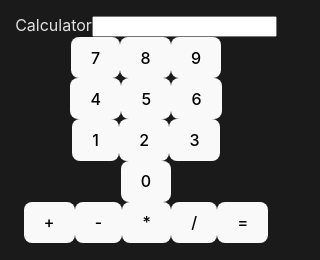
Calculator › should fill input after clicking several numbers
Click the button "1" at (96, 140), box [72,119,119,161]
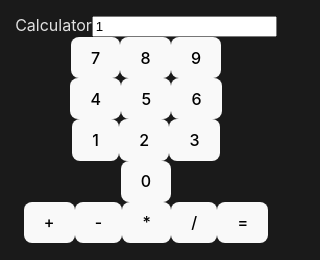
Click the button "2" at (144, 140), box [119,119,169,161]
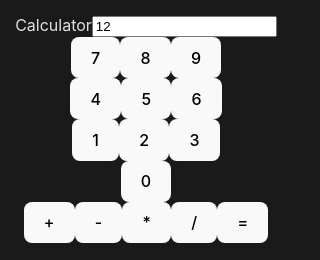
Click the button "3" at (195, 140), box [169,119,220,161]
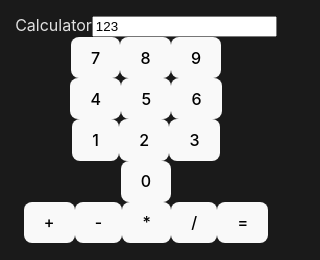
Now the field holds "123", box [92,16,277,37]
